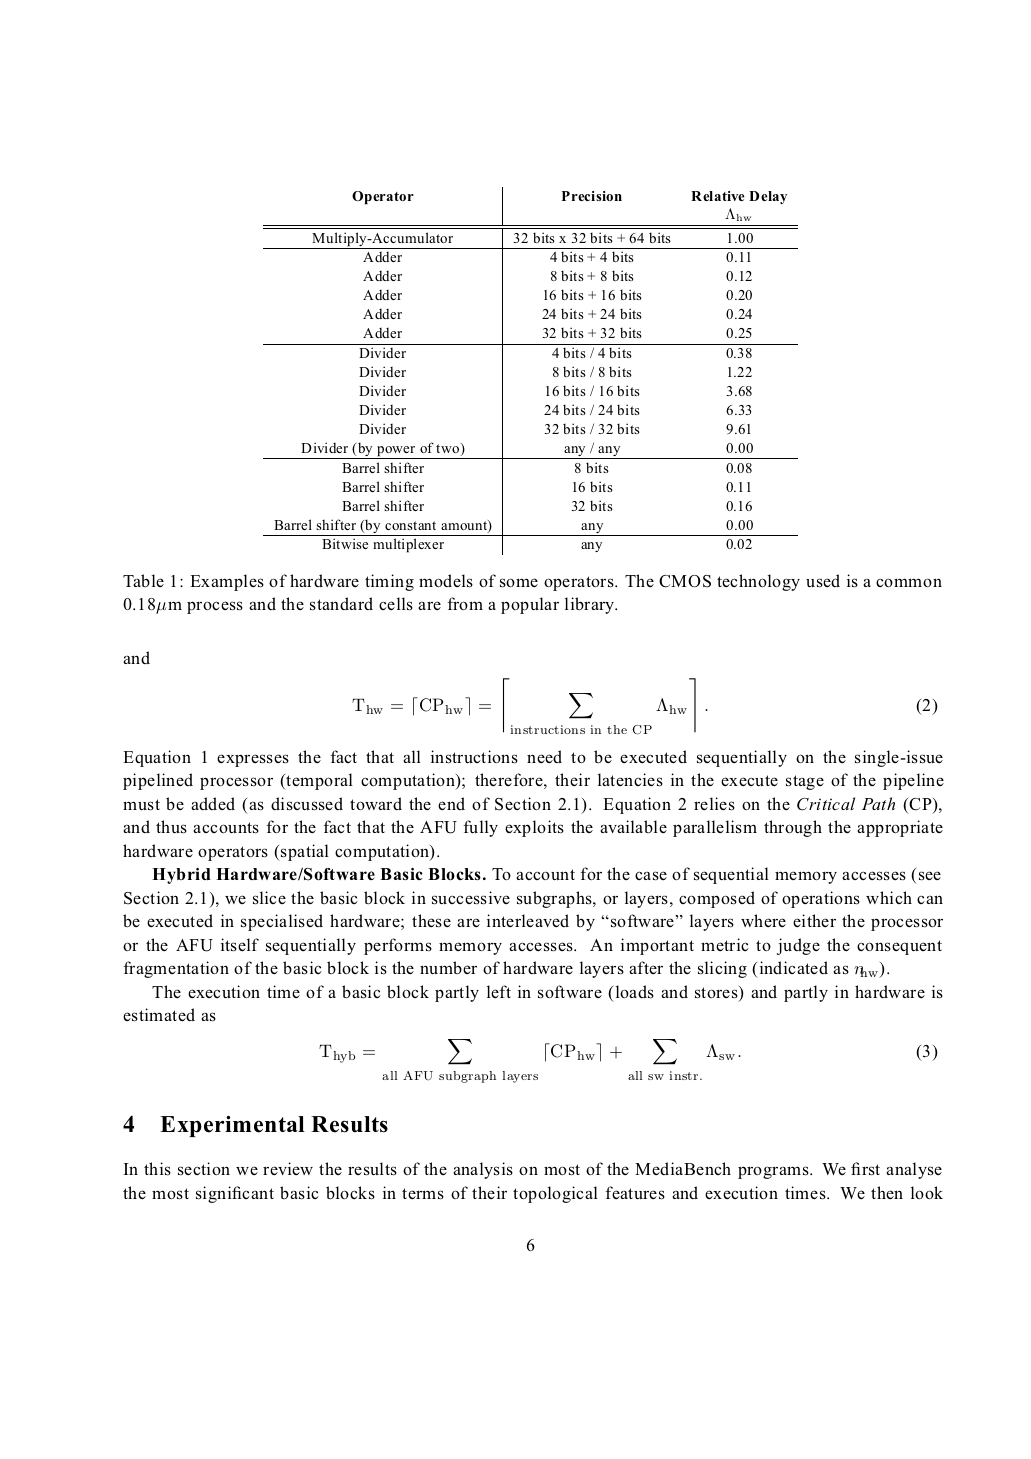Table: (263, 186, 797, 555)
formula: (351, 677, 937, 735), (319, 1038, 937, 1082)
